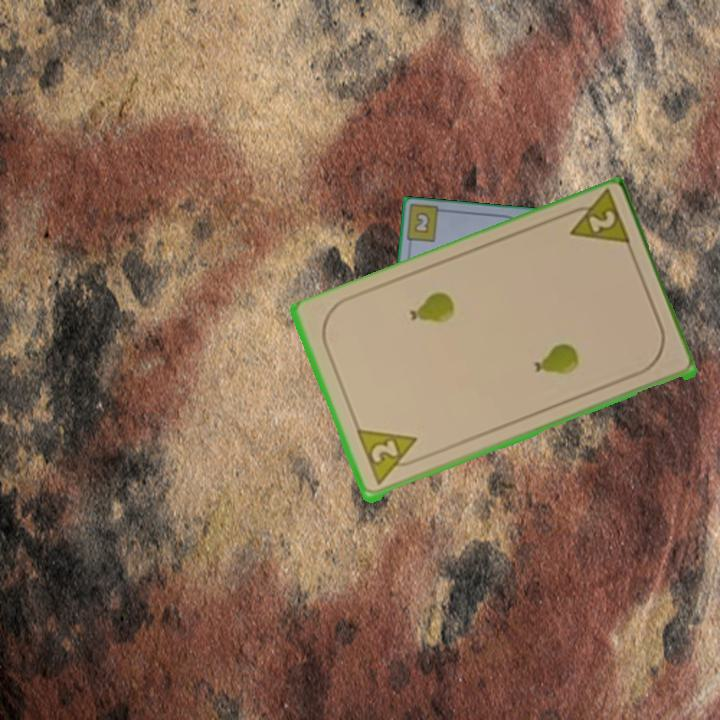2b: (413, 211, 431, 234)
2p: (557, 189, 634, 252), (353, 426, 426, 490)
